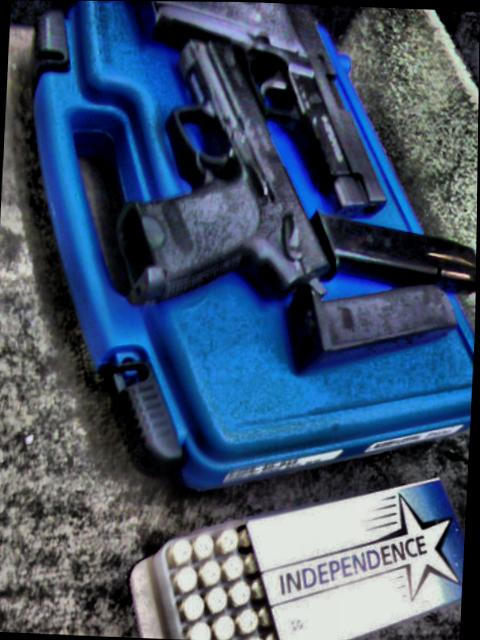pistol: (110, 31, 336, 321), (119, 1, 396, 219)
